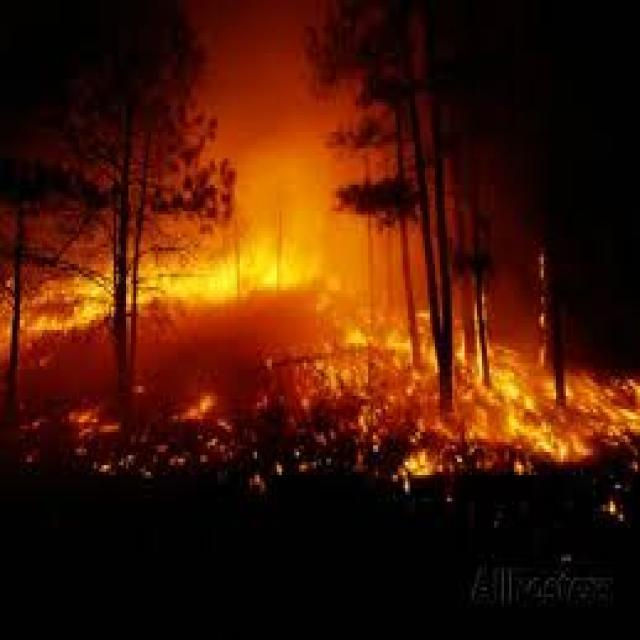Fire: (0, 230, 640, 484)
Smoke: (183, 0, 371, 244)
